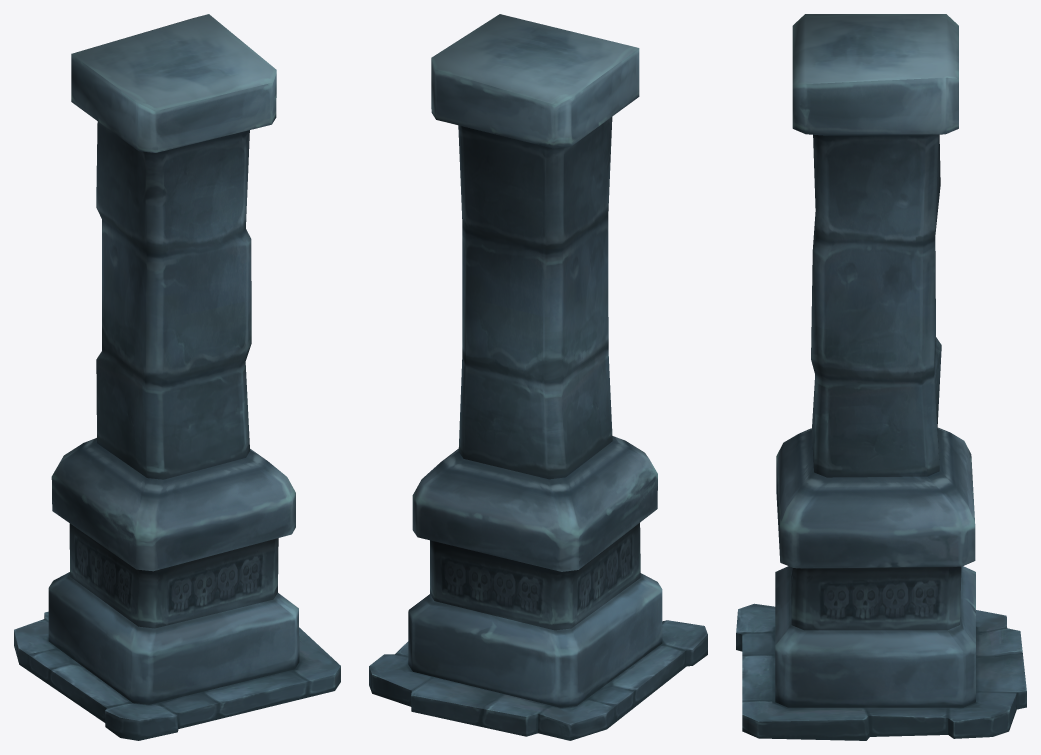
Rendered from sutun.fbx.
3 views of the same model, side by side, from view 1: azimuth 30°, elevation 25°; view 2: azimuth 150°, elevation 25°; view 3: azimuth 270°, elevation 25° (orthographic). The views are drawn at different scales.
Visible parts, largest first — view 1: dungoen_pillar; view 2: dungoen_pillar; view 3: dungoen_pillar.
Boxes of the visible parts, left/top/right/bottom form: dungoen_pillar: left=14, top=14, right=340, bottom=740; dungoen_pillar: left=369, top=14, right=707, bottom=740; dungoen_pillar: left=736, top=14, right=1026, bottom=740.
Size of the model in its own units: 80.84 by 207 by 85.35.
Materials: 1 (1 with a texture image).
